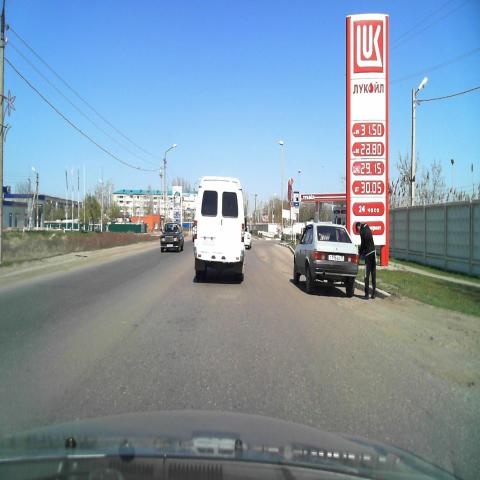7_3: (293, 190, 299, 207)
